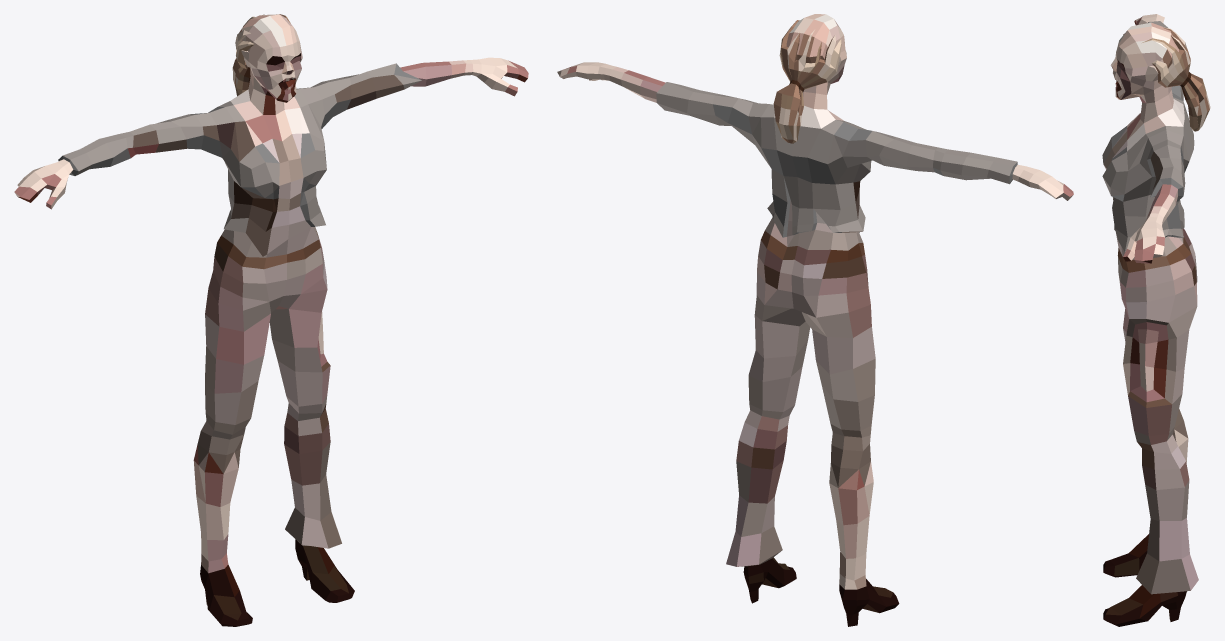
File: ZombieJ (2).fbx
3 renders of one model, left to right at view 1: azimuth 30°, elevation 25°; view 2: azimuth 150°, elevation 25°; view 3: azimuth 270°, elevation 25°, orthographic. The views are drawn at different scales.
Parts seen in each view (by area): view 1: lpFemale_zombie_C1; view 2: lpFemale_zombie_C1; view 3: lpFemale_zombie_C1.
Part boxes in pixels (<box>): lpFemale_zombie_C1: <box>14,14,528,626</box>; lpFemale_zombie_C1: <box>557,14,1073,626</box>; lpFemale_zombie_C1: <box>1102,14,1210,626</box>.
Bounding box in the file's own units: 155 × 169 × 29.01.
